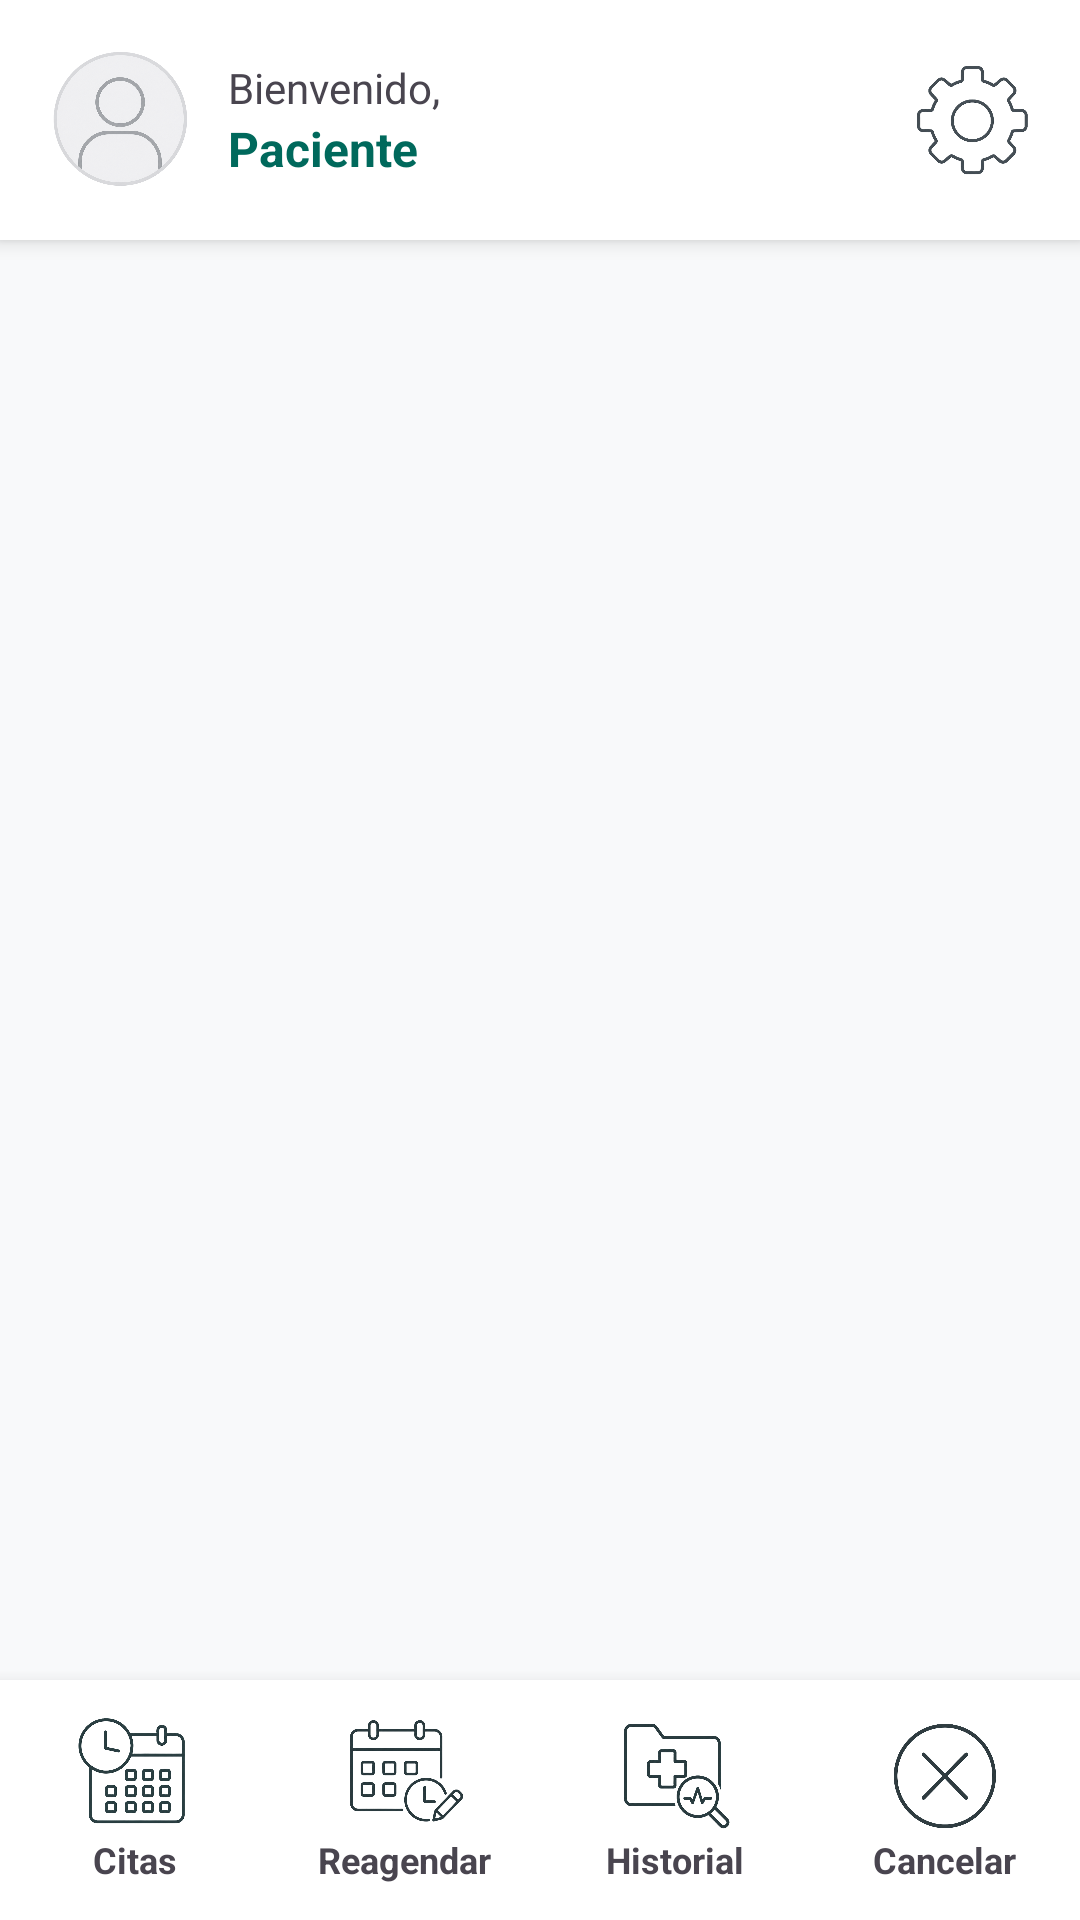

Named icons in this screenshot (1080*1920) and their centers, point (x, y):
configuration: point (972, 120)
diagnosticos: point (677, 1776)
user: point (120, 119)
